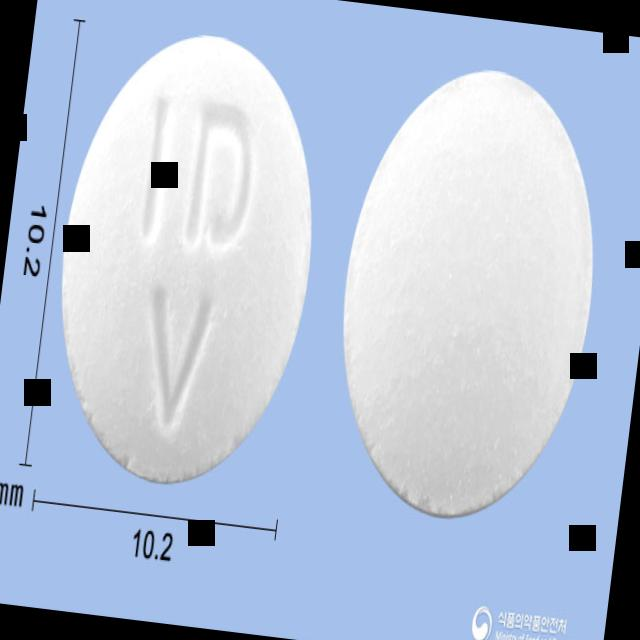Amocla Duo500mg: (36, 18, 337, 498), (318, 52, 618, 532)
